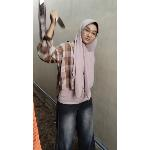Pisau: (47, 10, 69, 32)
